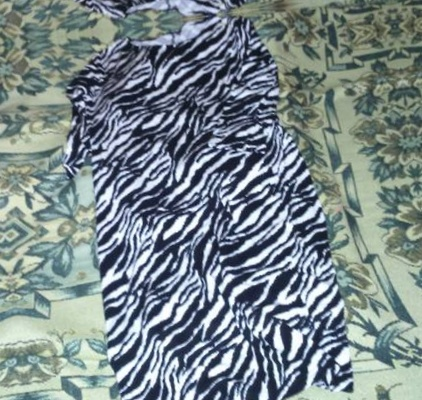Dress: (49, 14, 364, 400), (0, 0, 308, 26)
